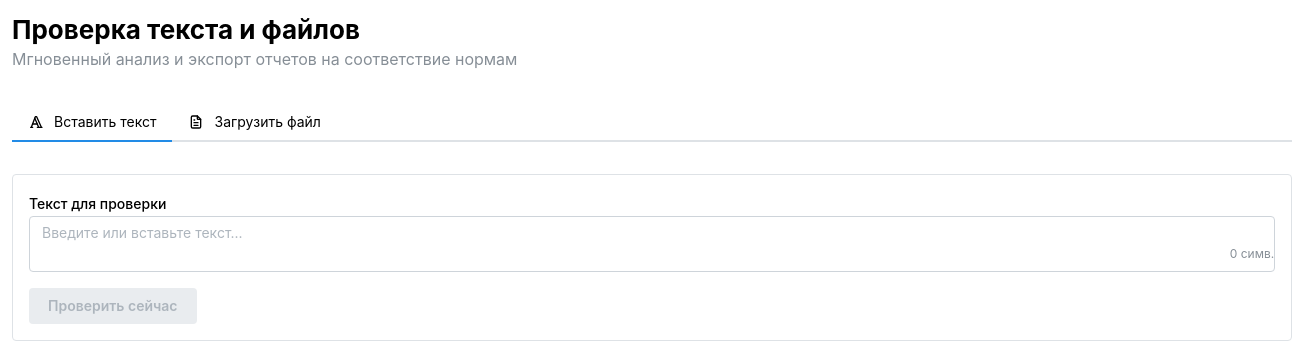
Test: TextPage › должен показывать счетчик символов при вводе
Type "Тест" into the text box labelled "Текст для проверки" at (652, 244), box [29, 216, 1275, 272]
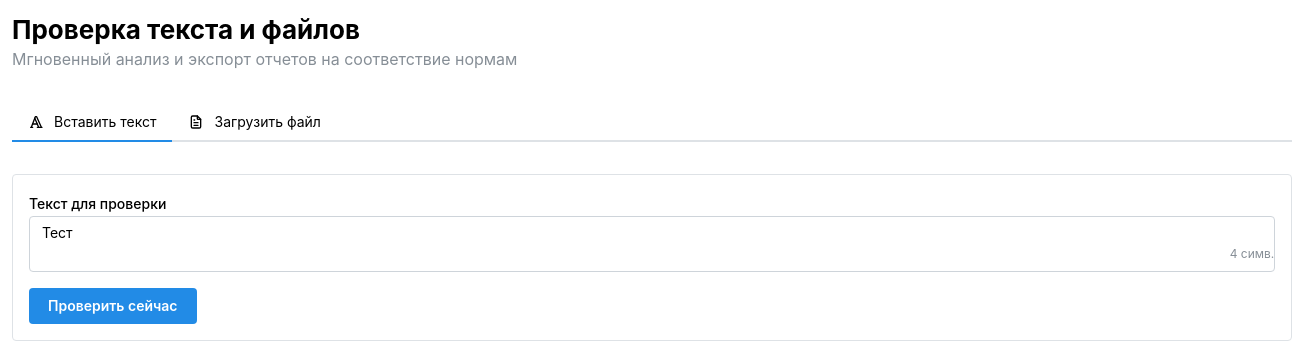
Check: the text "4 симв." is shown, box [1230, 246, 1274, 263]
